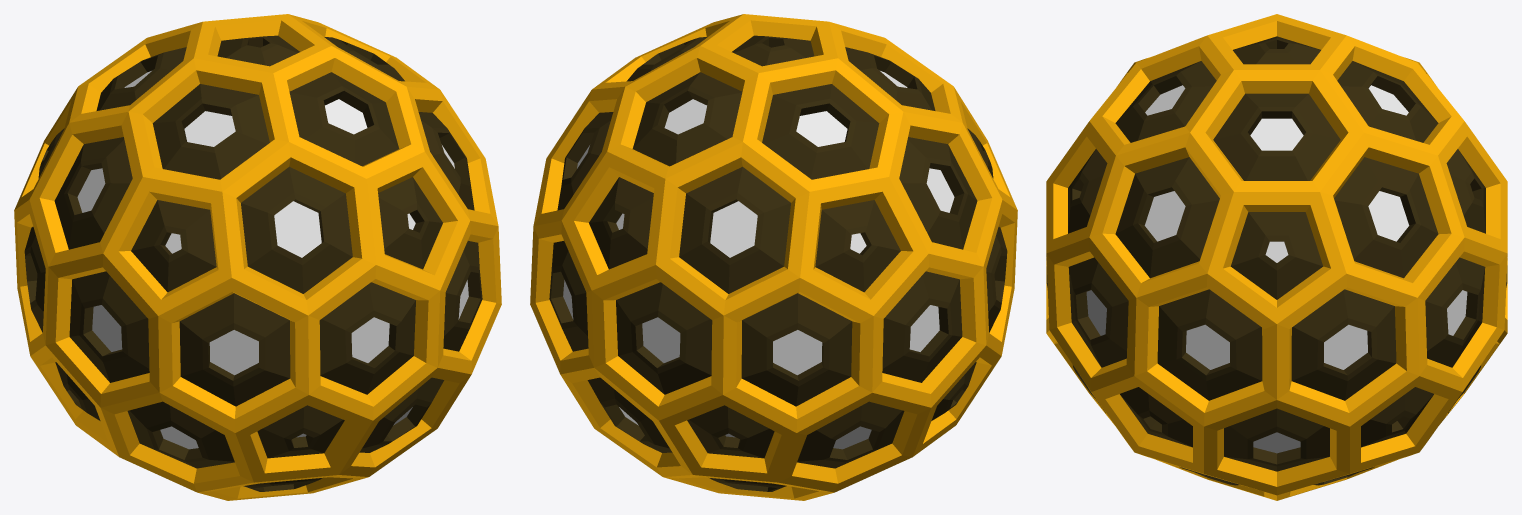
File: Scifi Shpere.fbx
3 views of the same model, side by side, from view 1: azimuth 30°, elevation 25°; view 2: azimuth 150°, elevation 25°; view 3: azimuth 270°, elevation 25° (orthographic).
Parts seen in each view (by area): view 1: Icosphere; view 2: Icosphere; view 3: Icosphere.
Part boxes in pixels (x1,y1,x2,y2): Icosphere: (14, 14, 501, 500); Icosphere: (530, 14, 1017, 500); Icosphere: (1046, 14, 1507, 500).
Bounding box in the file's own units: 367 × 355 × 349.
